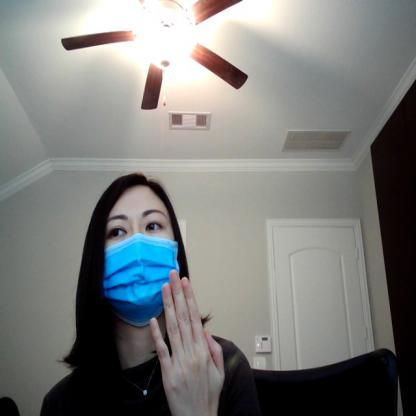thanks: (148, 269, 228, 415)
